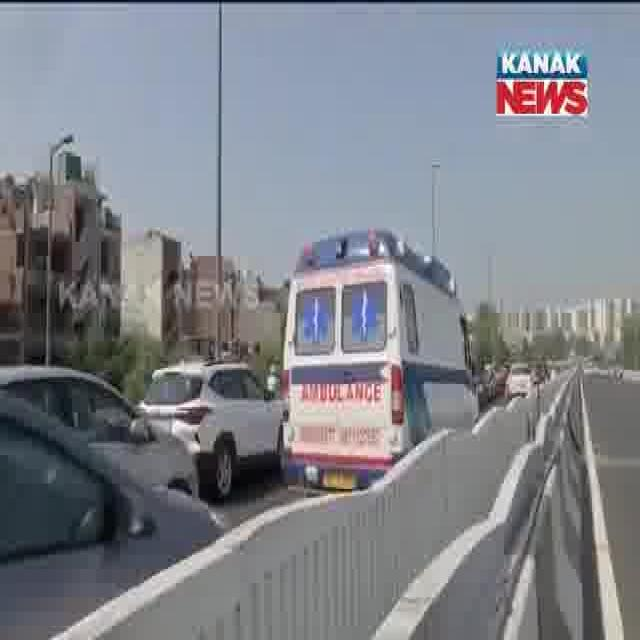ambulance: (278, 217, 488, 510)
